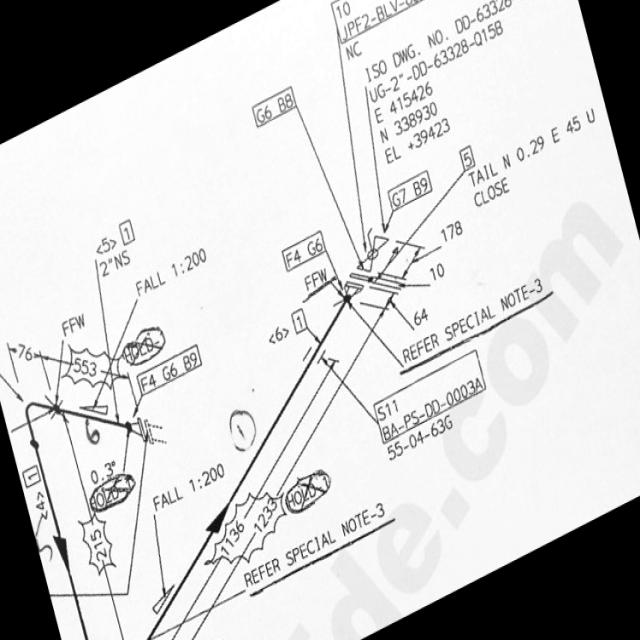Item number: (369, 348, 490, 447), (332, 1, 428, 53), (135, 340, 203, 399), (385, 165, 435, 214), (250, 80, 298, 131), (280, 226, 327, 275), (22, 460, 42, 491), (117, 216, 137, 247), (289, 304, 308, 335), (458, 142, 476, 173), (328, 1, 354, 20)
Measrement: (188, 514, 384, 636), (392, 217, 467, 286), (44, 344, 128, 389), (96, 242, 132, 282)
Pipeline: (144, 296, 351, 635)
Symbol: (125, 412, 165, 449), (205, 501, 230, 543)
Weld number: (228, 406, 260, 455)
other: (357, 1, 527, 166), (464, 94, 601, 217), (130, 242, 211, 304), (154, 456, 227, 517), (386, 412, 458, 464)
